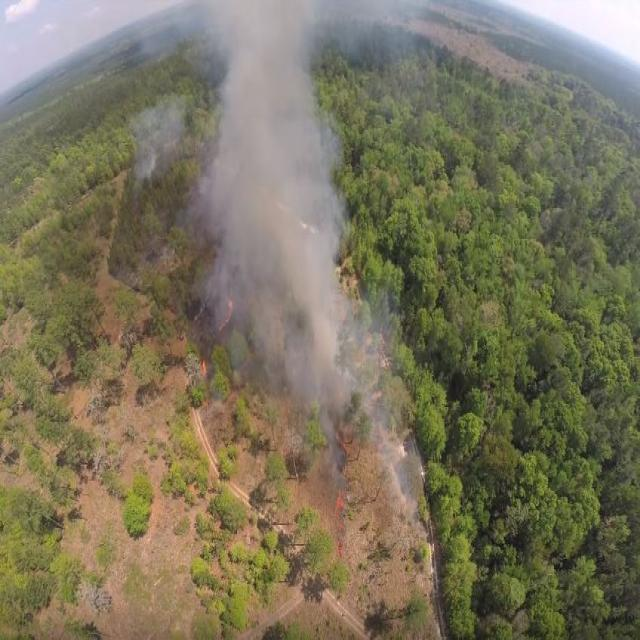Fire: (336, 431, 348, 561), (210, 291, 236, 334), (200, 357, 210, 379)
Smoke: (176, 0, 349, 254), (240, 257, 354, 405), (356, 358, 428, 539), (124, 84, 174, 196), (197, 256, 240, 291), (320, 410, 335, 475)
